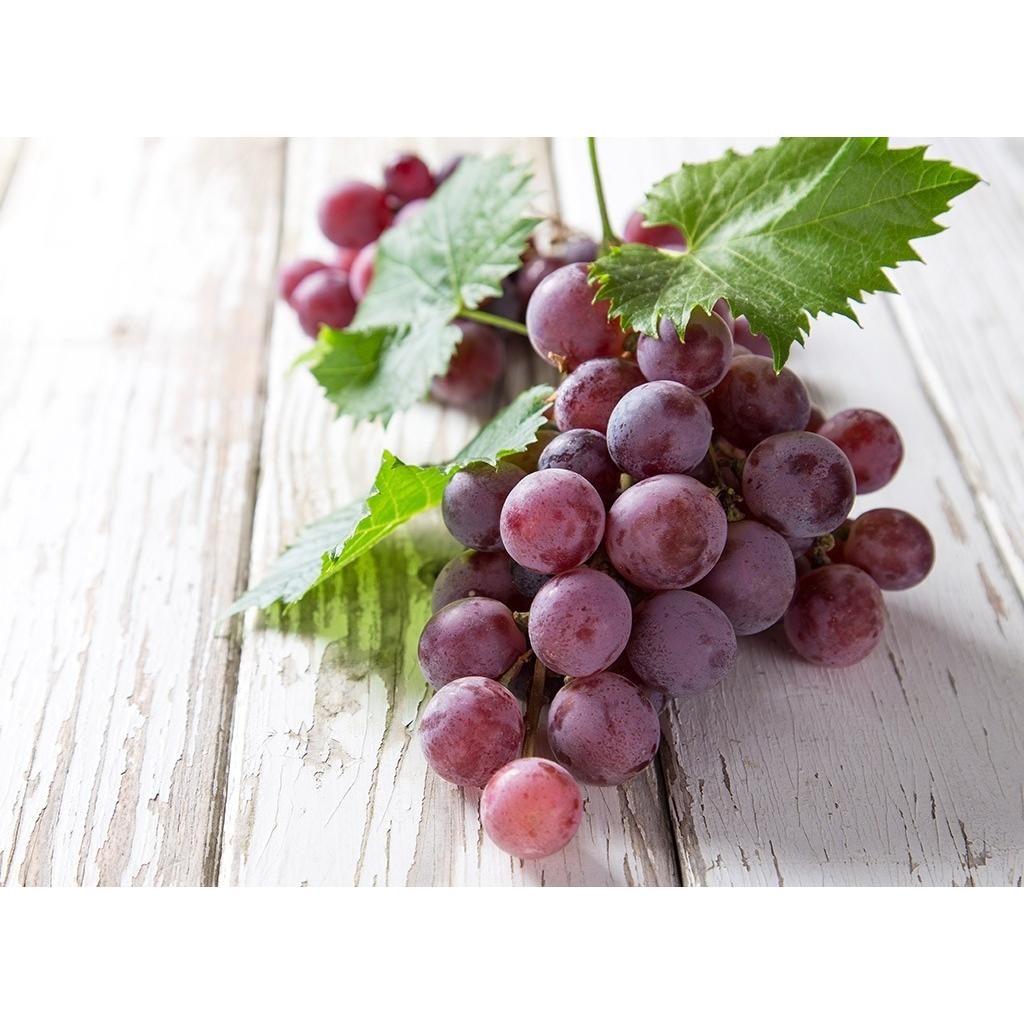grape: (238, 137, 974, 857), (417, 264, 932, 857)
